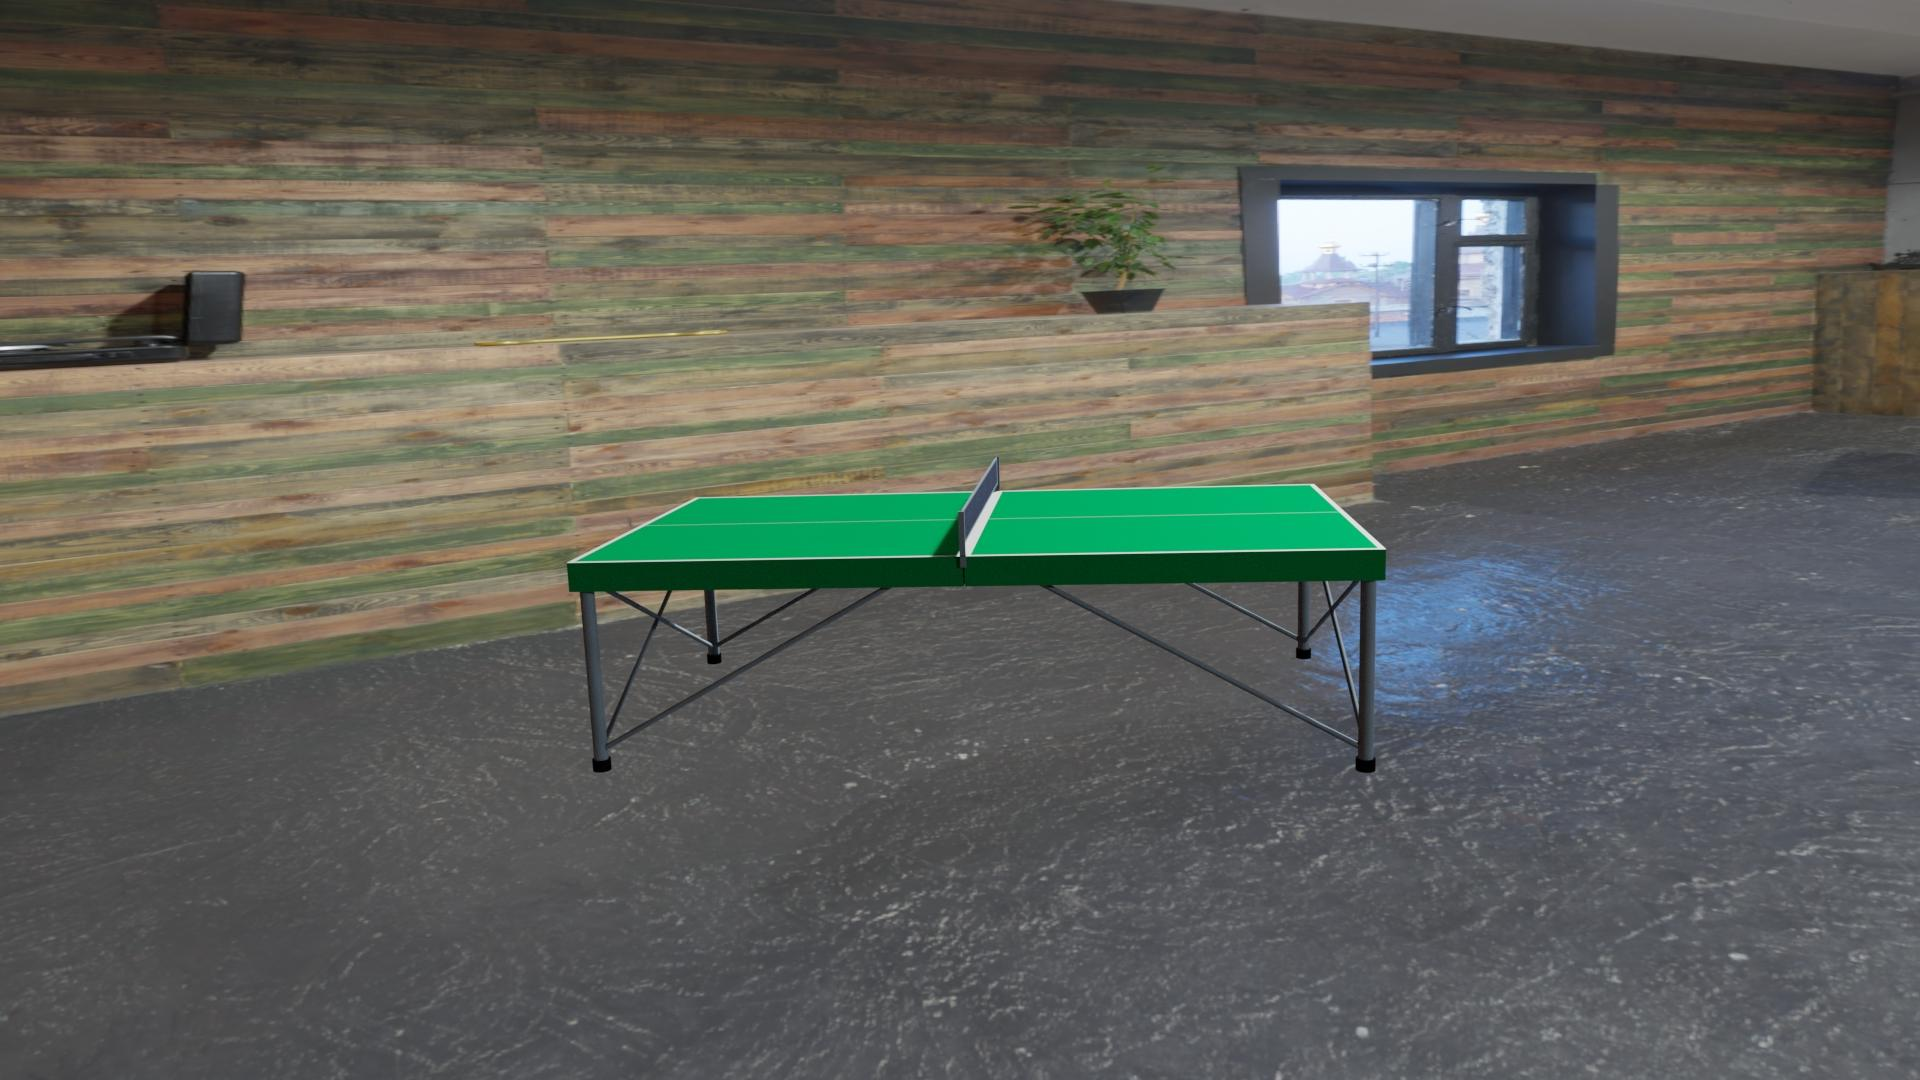table: (575, 485, 1378, 562)
